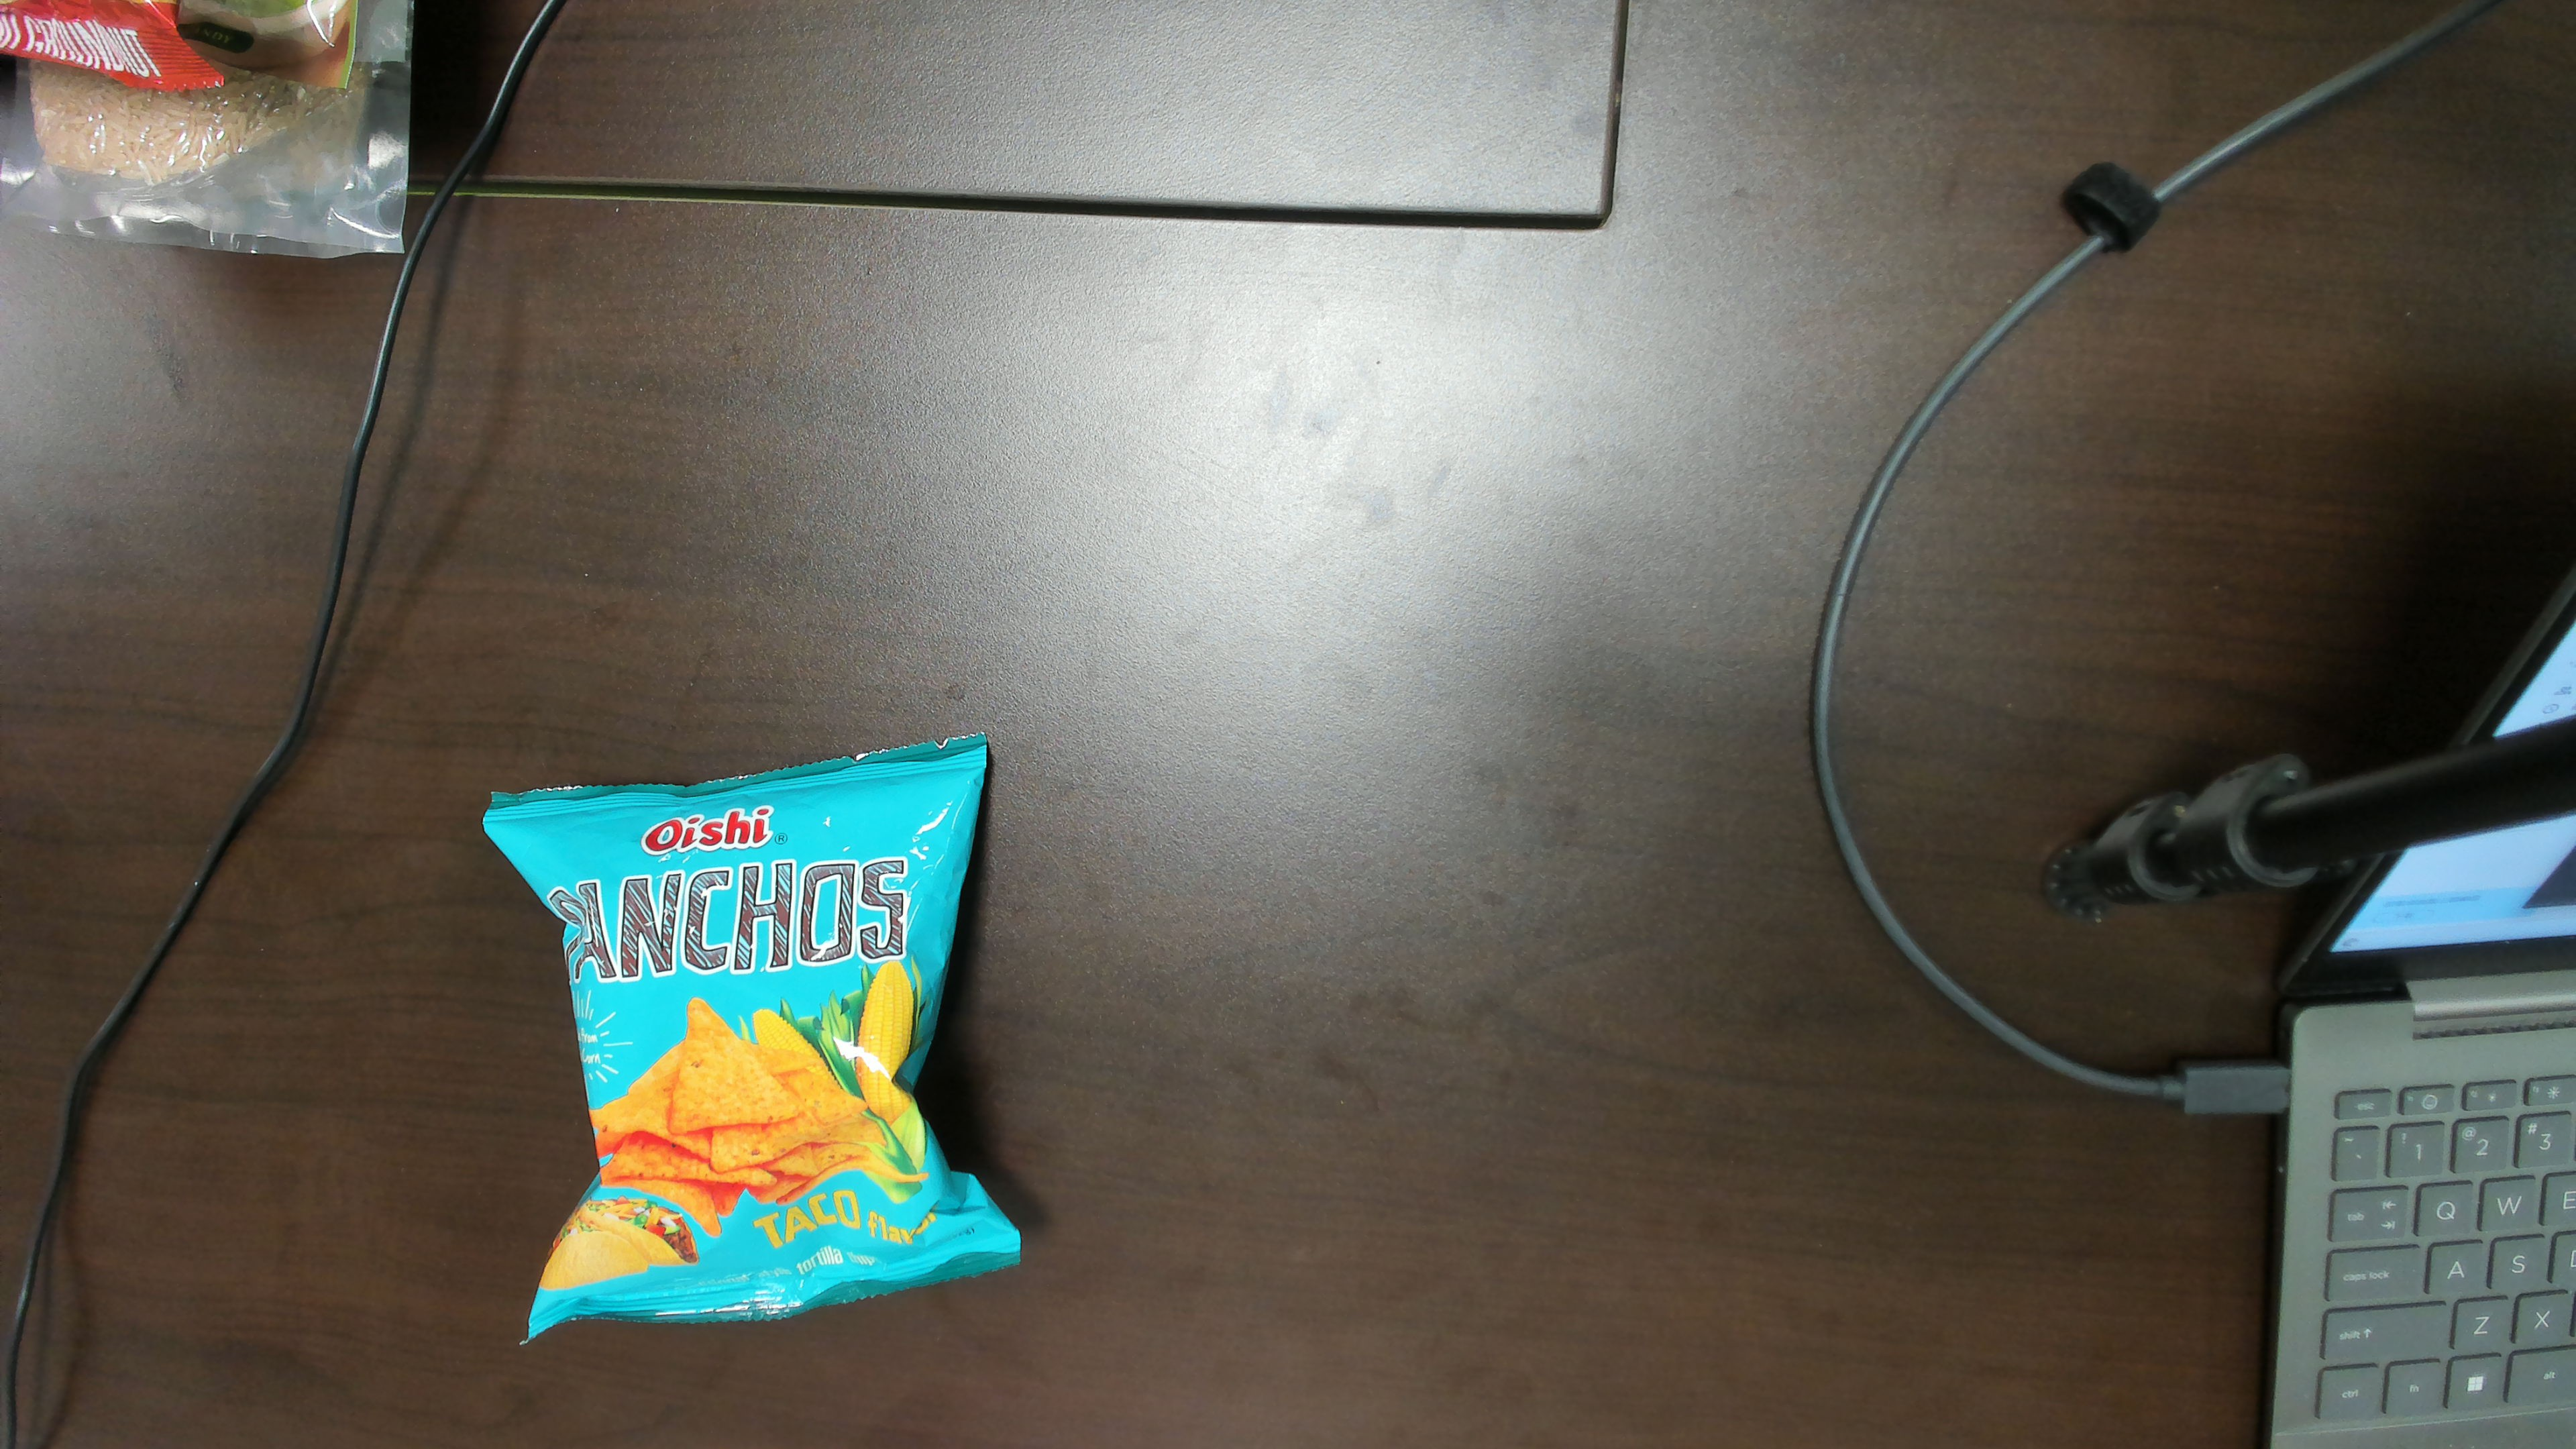PotatochipsKeropok_1-99g_NonHalal_NonHealthy: (570, 807, 936, 1277)
